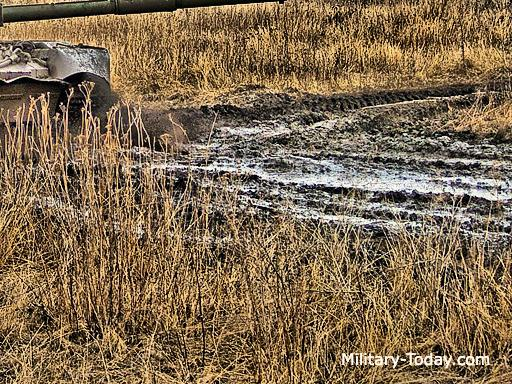tanks: (1, 41, 111, 111), (1, 1, 286, 23)
